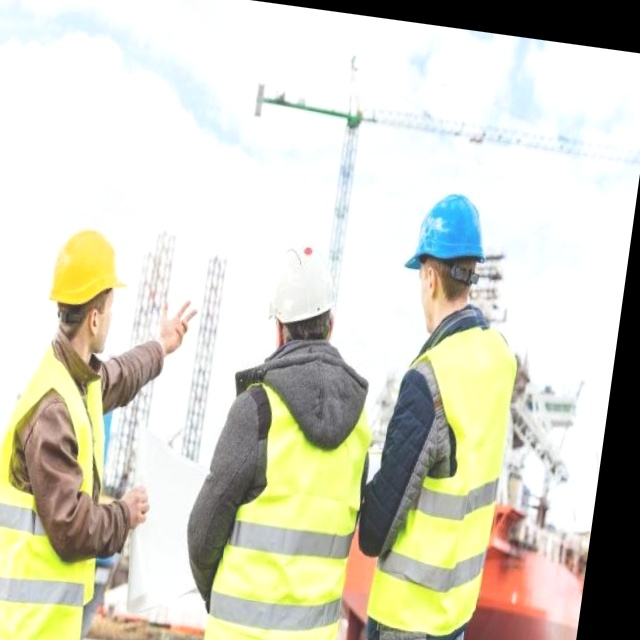Con_Casco: (261, 234, 344, 344)
Con_Chaleco: (362, 312, 521, 640), (191, 363, 378, 640), (0, 347, 135, 640)
